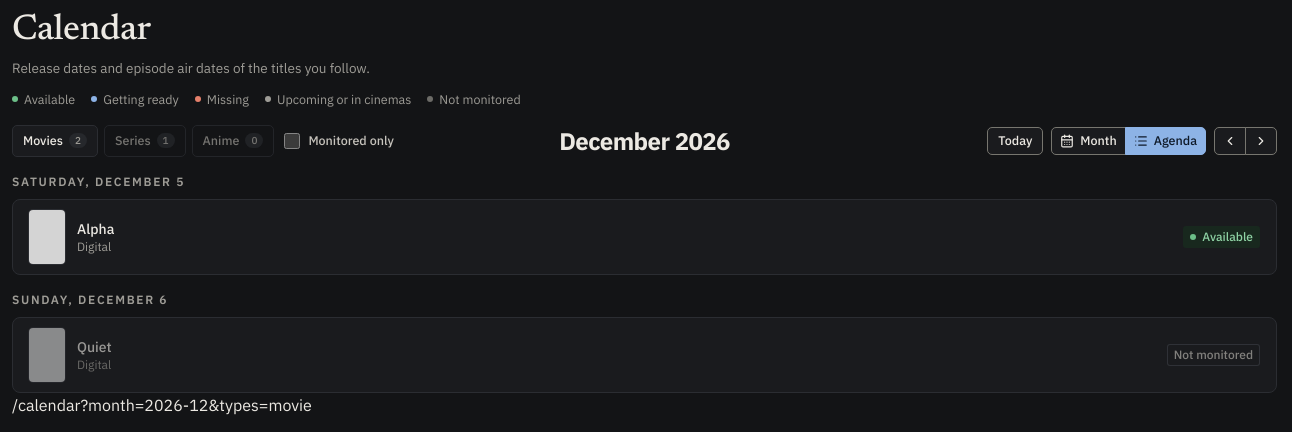
keeps the month, the toggles and Monitored only in the URL, and shows titles not monitored greyed
Expected: the heading with test id "cal-title" reads "December 2026", [559,125,730,157]
Expected: the text "Alpha" is shown, [77,220,114,238]
Click the checkbox labelled "Monitored only".
click(292, 141)  # box [284,133,300,149]
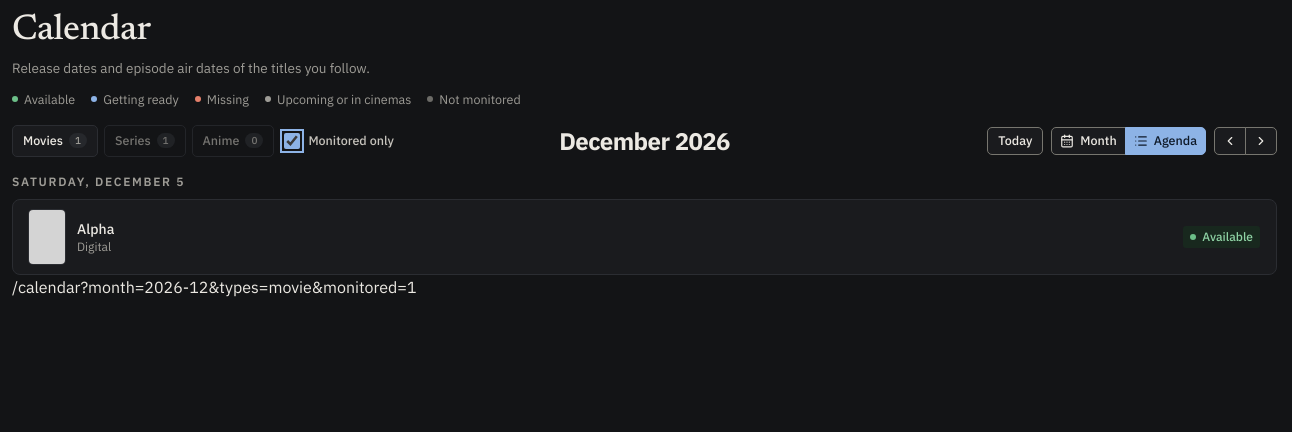
Expected: the link "Quiet" is gone
Expected: the text with test id "location" reads "/calendar?month=2026-12&types=movie&monitored=1", [12,277,417,297]
Click the button "Series 1".
click(145, 141)  # box [104,125,186,157]
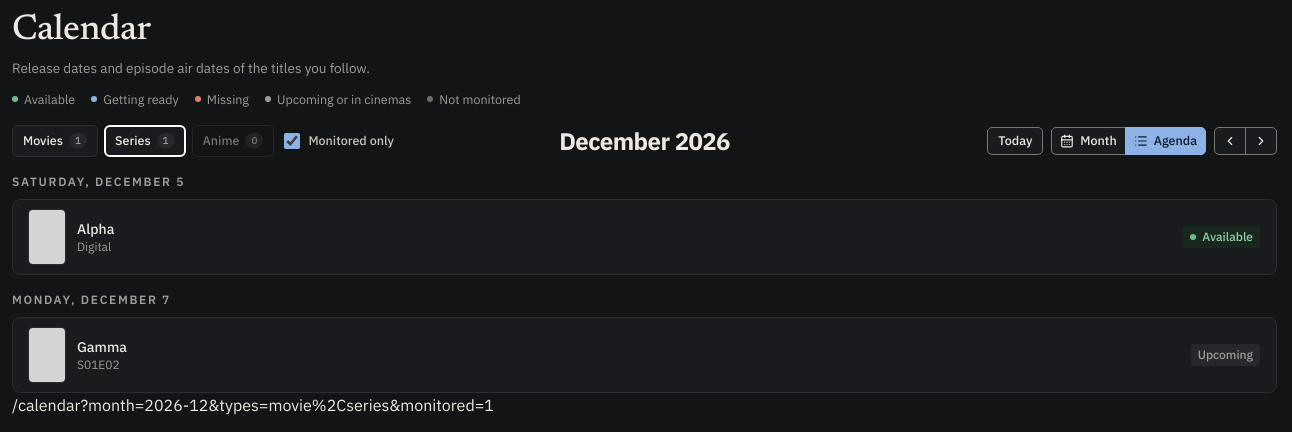
Expected: the text "Gamma" is shown, [77,338,127,356]
Expected: the text with test id "location" reads "/calendar?month=2026-12&types=movie%2Cseries&monitored=1", [12,395,494,415]
Click the button named "Next month".
click(1261, 141)  # box [1245,127,1277,155]
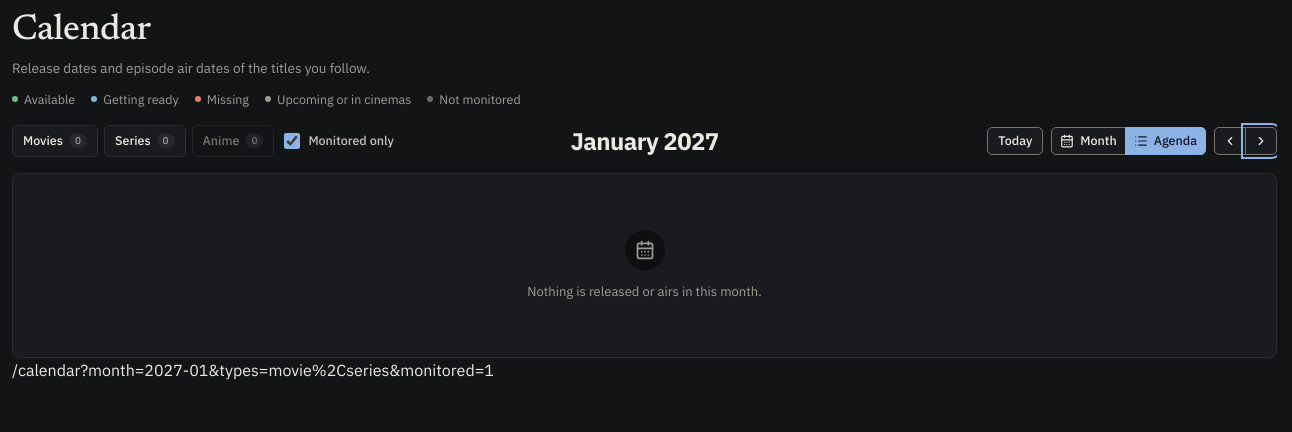
Expected: the text with test id "location" reads "/calendar?month=2027-01&types=movie%2Cseries&monitored=1", [12,360,494,380]
Click the button "Today".
click(1015, 141)  # box [987,127,1043,155]
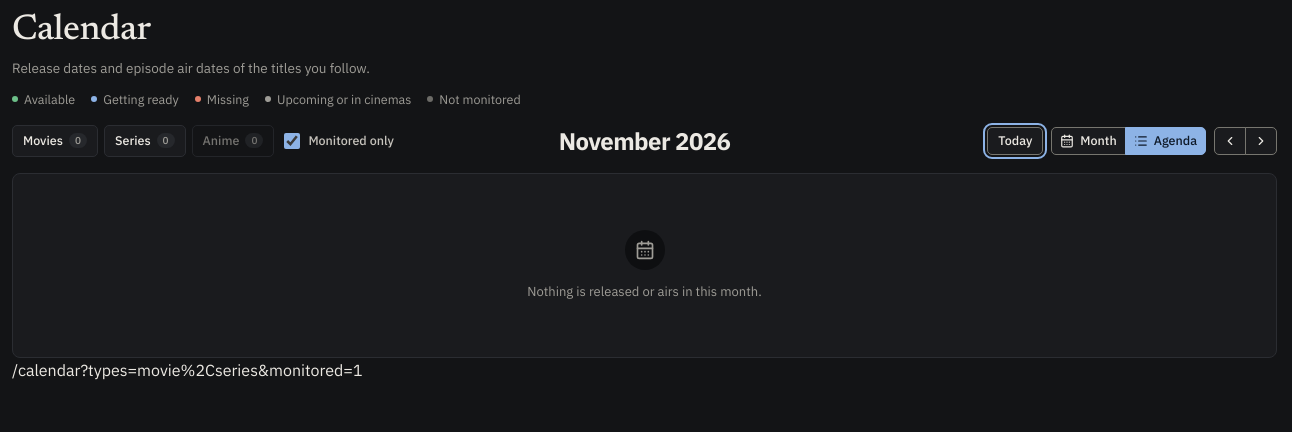
Expected: the text with test id "location" reads "/calendar?types=movie%2Cseries&monitored=1", [12,360,362,380]
